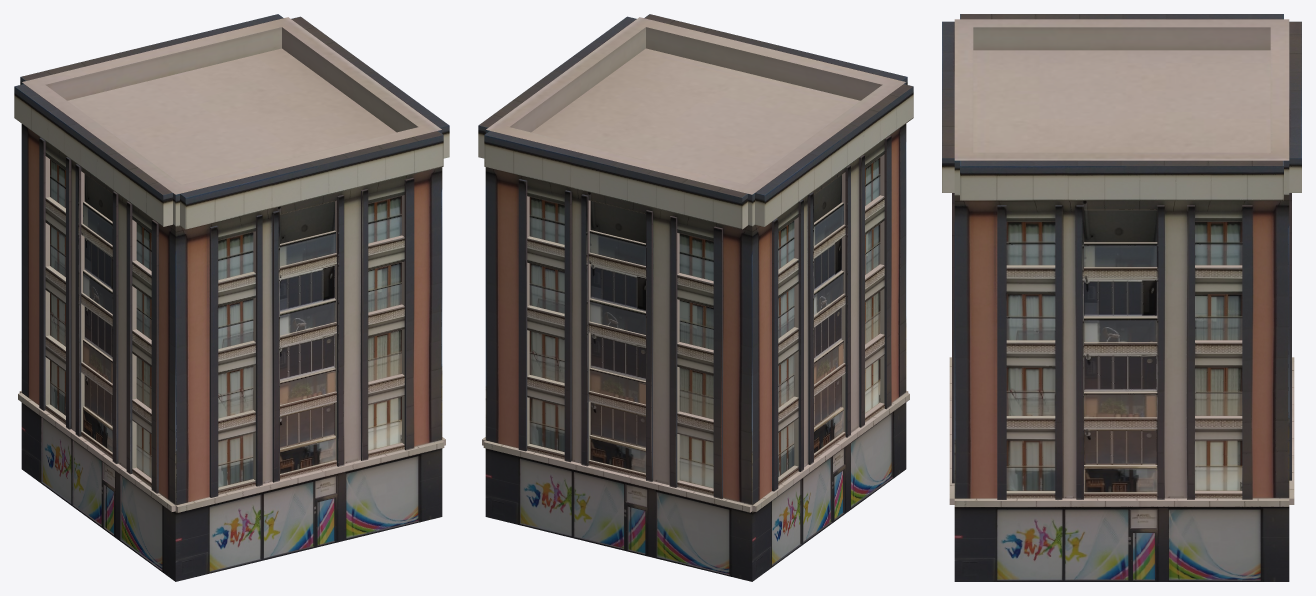
Rendered from newHouse.glb.
The picture shows the model from 3 angles, left to right: view 1: azimuth 30°, elevation 25°; view 2: azimuth 150°, elevation 25°; view 3: azimuth 270°, elevation 25°; orthographic projection. The views are drawn at different scales.
Visible parts, largest first — view 1: 13; view 2: 13; view 3: 13.
Boxes of the visible parts, left/top/right/bottom form: 13: left=14, top=14, right=449, bottom=581; 13: left=478, top=14, right=913, bottom=581; 13: left=942, top=14, right=1301, bottom=581.
Size of the model in its own units: 0.7353 by 0.9499 by 0.7353.
1 material, 1 textured.
